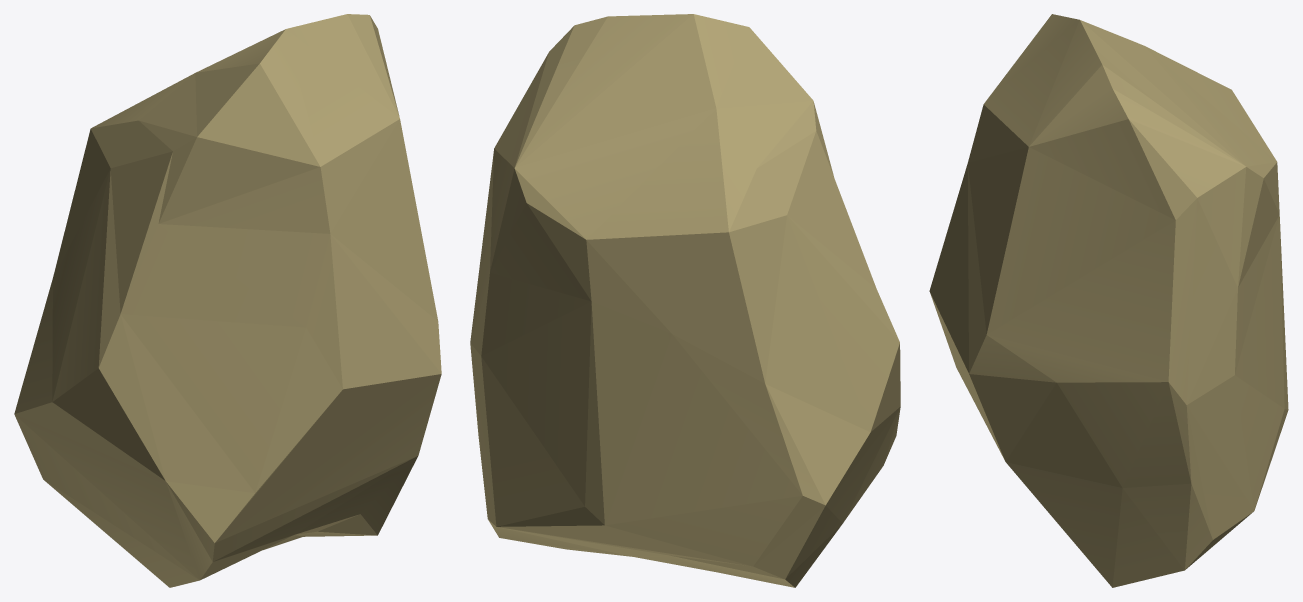
Rendered from SM_small_rock_17.fbx.
The picture shows the model from 3 angles, left to right: view 1: azimuth 30°, elevation 25°; view 2: azimuth 150°, elevation 25°; view 3: azimuth 270°, elevation 25°; orthographic projection. The views are drawn at different scales.
Visible parts, largest first — view 1: small_rock_17; view 2: small_rock_17; view 3: small_rock_17.
Part boxes in pixels (x1,y1,x2,y2): small_rock_17: [14, 14, 441, 587]; small_rock_17: [470, 14, 900, 587]; small_rock_17: [929, 14, 1288, 587].
Bounding box in the file's own units: 50.3 × 69.97 × 43.98.
